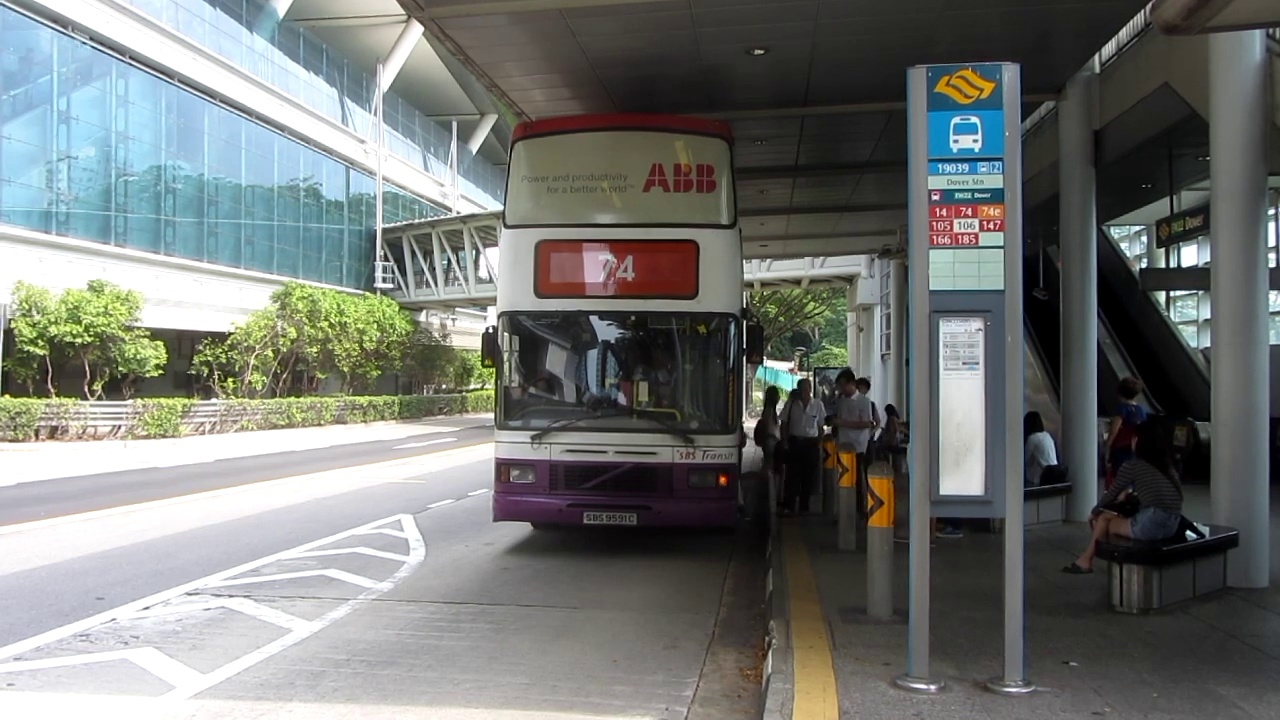bus panel: (530, 237, 702, 303)
